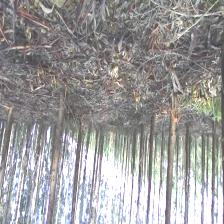trunk: (49, 96, 67, 195), (166, 101, 179, 219), (72, 122, 84, 210), (0, 109, 15, 172), (148, 116, 156, 200), (211, 124, 218, 218), (83, 124, 93, 180), (184, 127, 190, 216), (138, 122, 144, 194)
